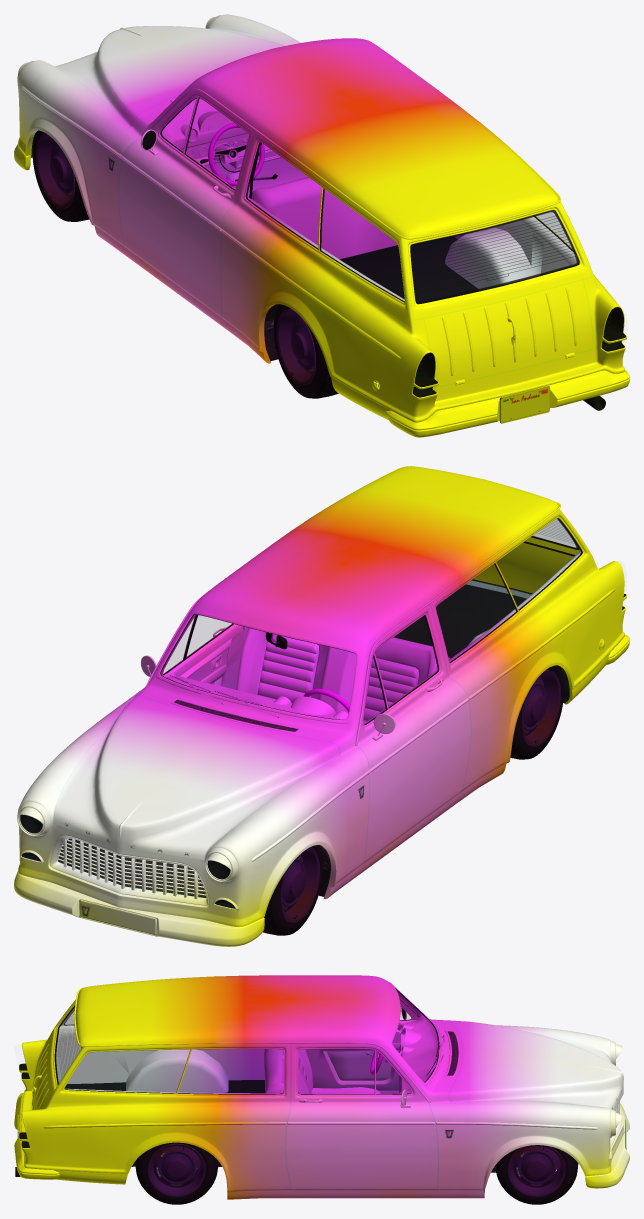
The model's file is fagaloa.glb.
3 views of the same model, one above another, from view 1: azimuth 30°, elevation 25°; view 2: azimuth 150°, elevation 25°; view 3: azimuth 270°, elevation 25° (orthographic). The views are drawn at different scales.
Parts seen in each view (by area): view 1: bodyshell, chassis, door_dside_f, bonnet, cargodoor, windscreen_r, bumper_r, misc_j, misc_c, window_lr, wheel_lr, boot (+7 smaller); view 2: bodyshell, bonnet, chassis, door_dside_f, misc_j, bumper_f, window_lr, misc_c, wheel_lf, window_lf, wheel_lr, door_pside_f (+4 smaller); view 3: bodyshell, door_pside_f, chassis, bonnet, misc_j, window_rr, window_rm, wheel_rr, wheel_rf, window_rf, door_dside_f, misc_s (+8 smaller).
Part boxes in pixels (x1,y1,x2,y2): bodyshell: [17, 14, 624, 422]; chassis: [31, 98, 626, 397]; door_dside_f: [118, 90, 254, 317]; bonnet: [55, 26, 285, 126]; cargodoor: [423, 279, 593, 387]; windscreen_r: [410, 210, 579, 303]; bumper_r: [386, 370, 629, 437]; misc_j: [17, 15, 626, 399]; misc_c: [321, 189, 404, 301]; window_lr: [247, 143, 320, 248]; wheel_lr: [273, 304, 338, 398]; boot: [404, 203, 591, 320]; bodyshell: [18, 466, 624, 927]; bonnet: [53, 695, 340, 860]; chassis: [20, 518, 625, 908]; door_dside_f: [357, 604, 471, 862]; misc_j: [17, 467, 627, 909]; bumper_f: [14, 871, 264, 946]; window_lr: [436, 564, 516, 661]; misc_c: [497, 519, 581, 608]; wheel_lf: [263, 845, 322, 935]; window_lf: [376, 616, 437, 706]; wheel_lr: [510, 665, 563, 759]; door_pside_f: [134, 614, 244, 695]; bodyshell: [21, 975, 624, 1199]; door_pside_f: [285, 1043, 438, 1190]; chassis: [19, 988, 496, 1192]; bonnet: [449, 1020, 623, 1109]; misc_j: [19, 983, 622, 1159]; window_rr: [178, 1049, 283, 1093]; window_rm: [65, 1050, 189, 1092]; wheel_rr: [135, 1142, 218, 1204]; wheel_rf: [495, 1145, 578, 1204]; window_rf: [298, 1049, 373, 1093]; door_dside_f: [305, 999, 419, 1093]; misc_s: [327, 1033, 400, 1080].
Size of the model in its own units: 1.59 by 1.3 by 4.42.
25 materials, 17 textured.
